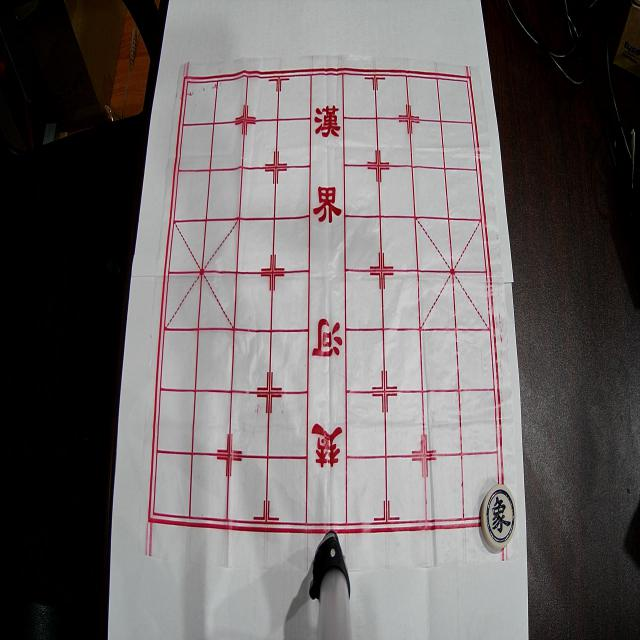black-elephant: (481, 484, 517, 549)
